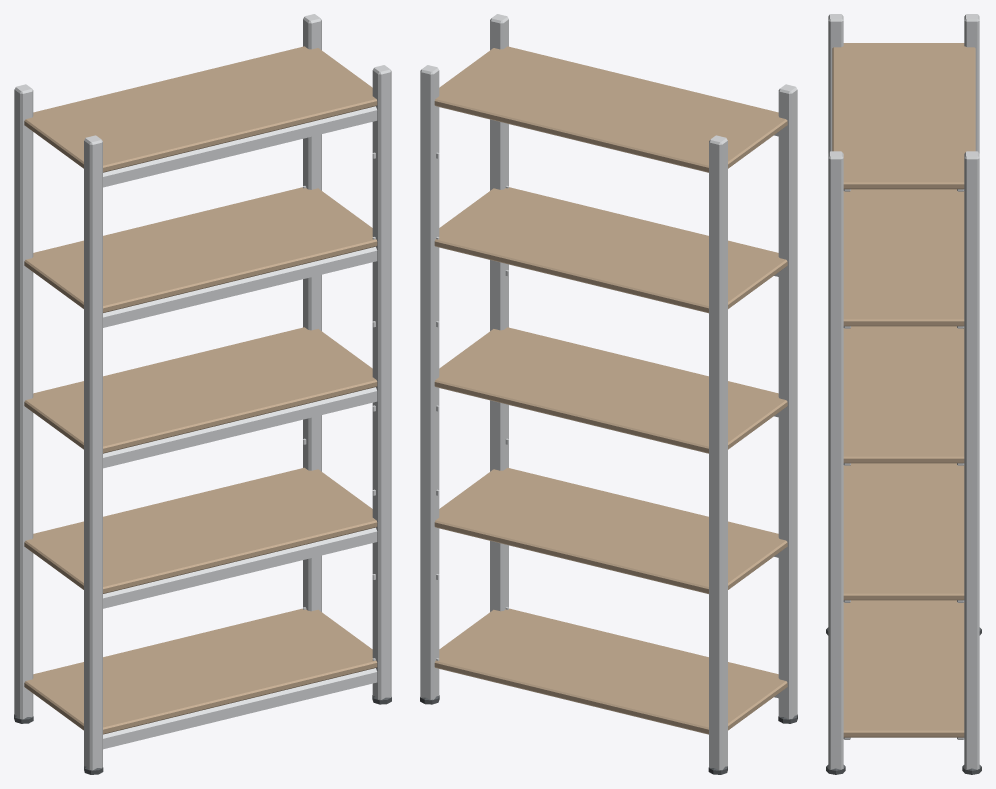
The model's file is home-appliances-and-utility-utility-shelving-unit-ca2fd75b__14159.glb.
3 renders of one model, left to right at view 1: azimuth 30°, elevation 25°; view 2: azimuth 150°, elevation 25°; view 3: azimuth 270°, elevation 25°, orthographic. The views are drawn at different scales.
Parts seen in each view (by area): view 1: utility-shelving-unit; view 2: utility-shelving-unit; view 3: utility-shelving-unit.
Boxes of the visible parts, x1,y1,x2,y2 form: utility-shelving-unit: (14,14,391,774); utility-shelving-unit: (420,14,797,774); utility-shelving-unit: (826,14,981,774).
Size of the model in its own units: 0.912 by 1.8 by 0.412.
